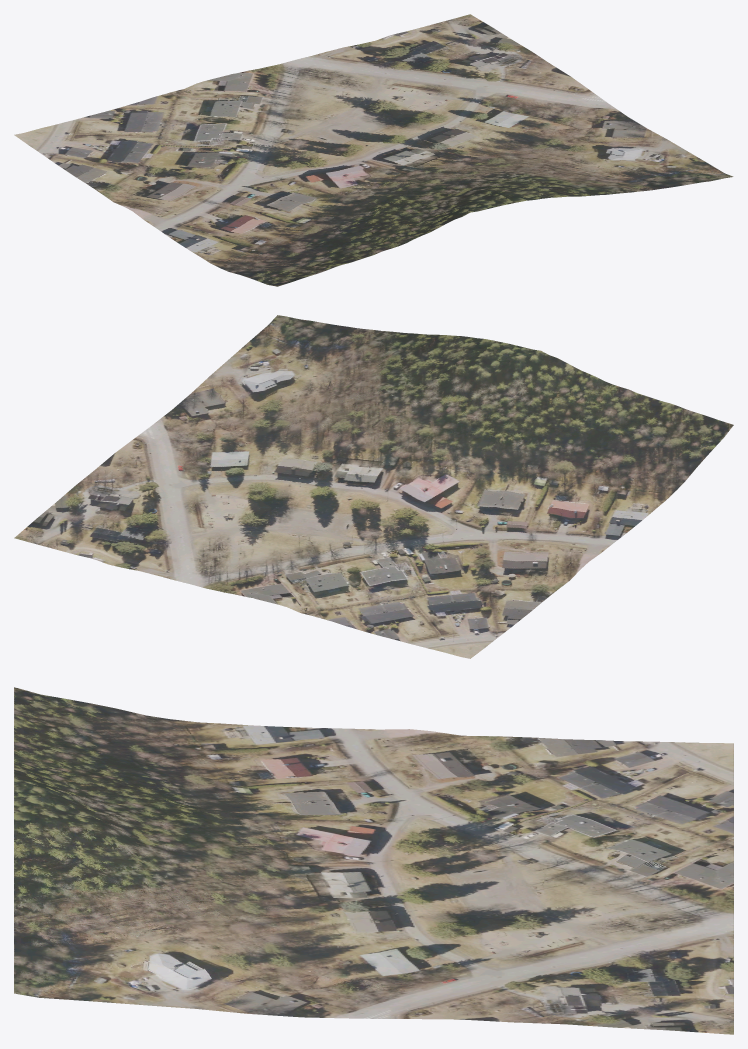
File: CM_Terrain_24490663_6817951.fbx
3 renders of one model, top to bottom at view 1: azimuth 30°, elevation 25°; view 2: azimuth 150°, elevation 25°; view 3: azimuth 270°, elevation 25°, orthographic. The views are drawn at different scales.
Visible parts, largest first — view 1: CM_Terrain_24490663_6817951_LOD0; view 2: CM_Terrain_24490663_6817951_LOD0; view 3: CM_Terrain_24490663_6817951_LOD0.
Part boxes in pixels (x1,y1,x2,y2): CM_Terrain_24490663_6817951_LOD0: (14, 14, 733, 286); CM_Terrain_24490663_6817951_LOD0: (14, 315, 733, 658); CM_Terrain_24490663_6817951_LOD0: (14, 687, 733, 1034).
Size of what is drawn, in the model's own units: 205 by 29.4 by 205.
